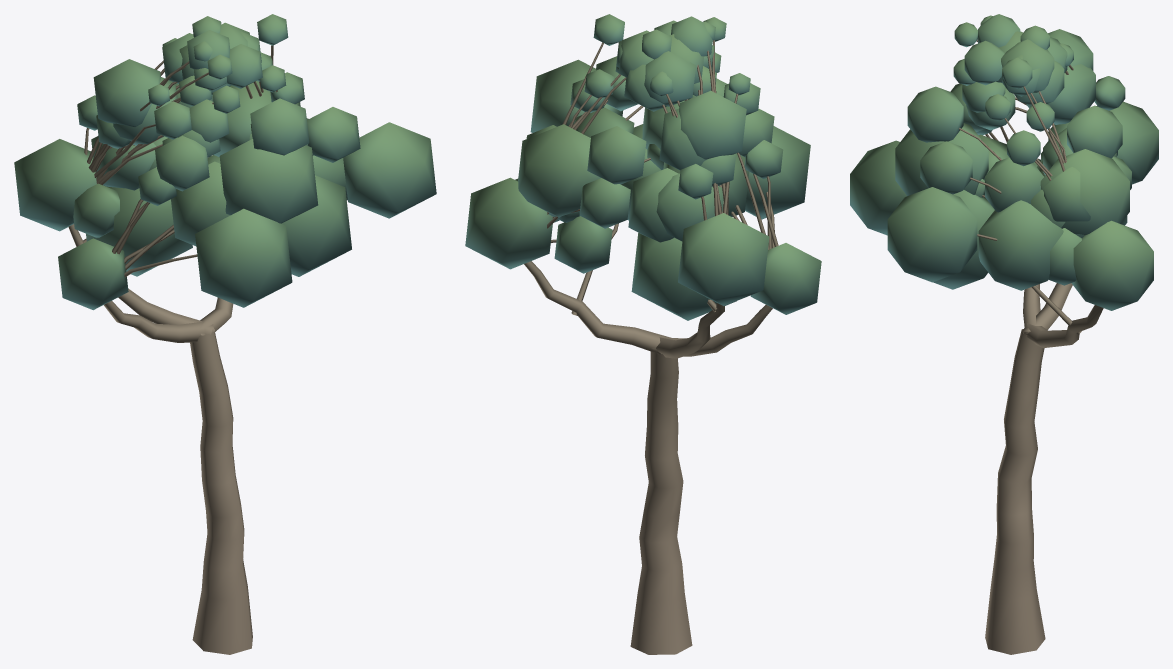
The model's file is seed_tree_b.glb.
3 renders of one model, left to right at view 1: azimuth 30°, elevation 25°; view 2: azimuth 150°, elevation 25°; view 3: azimuth 270°, elevation 25°, orthographic.
Visible parts, largest first — view 1: seed_tree_b_LOD0; view 2: seed_tree_b_LOD0; view 3: seed_tree_b_LOD0.
Boxes of the visible parts, bbox=[...] form: seed_tree_b_LOD0: bbox=[14, 14, 436, 654]; seed_tree_b_LOD0: bbox=[465, 14, 821, 654]; seed_tree_b_LOD0: bbox=[850, 14, 1158, 654].
Size of what is drawn, in the model's own units: 9.25 by 17.06 by 7.73.
